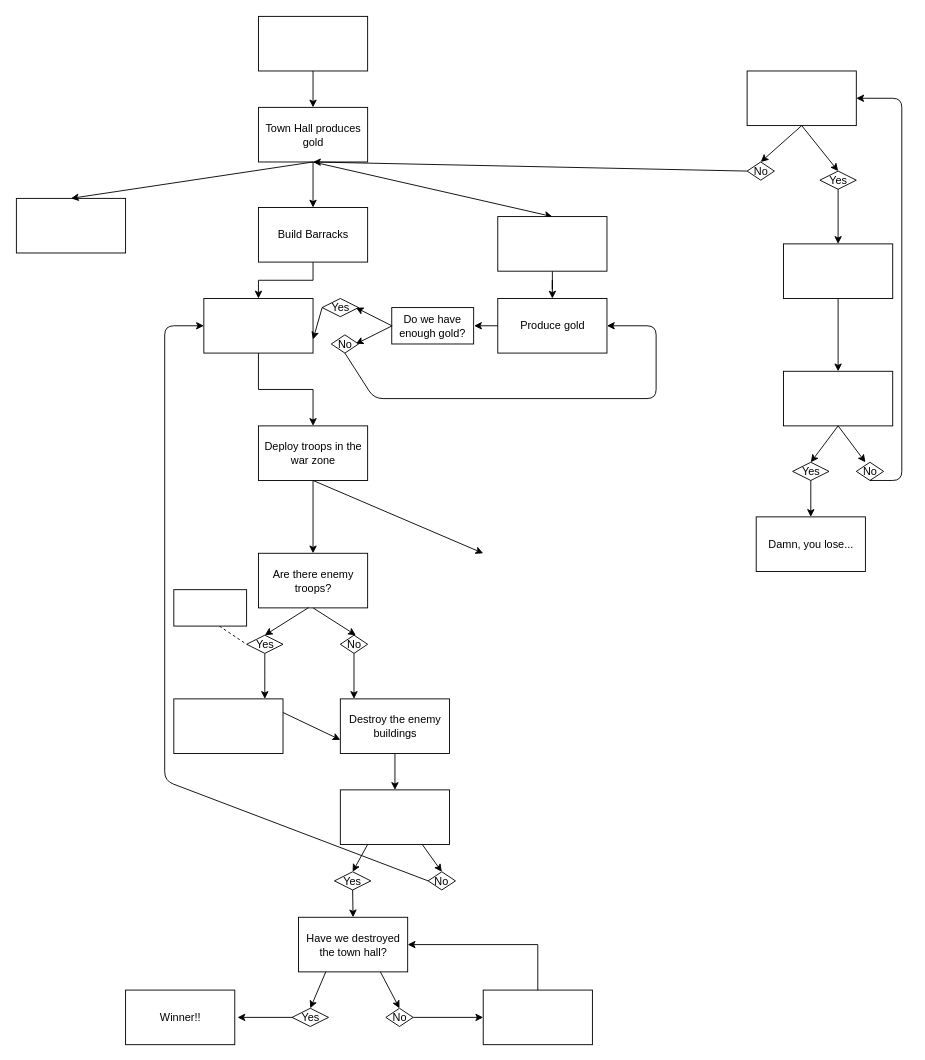
Some shapes in this 925 by 1060 pixel diagram are drawn without their labels. The centre of each missing label's shape, as x and y in pixels:
Build Defense Buildings: point 70,225
Build Gold Mine: point 552,243
Continue attacking: point 537,1017
Create Troops: point 258,325
Do we still have troops?: point 394,816
Fight them: point 228,725
Is our base under attack?: point 801,98
Is our town hall destroyed?: point 838,398
New play: point 313,43
Protect it: point 838,270
Use special habilities: point 210,607
